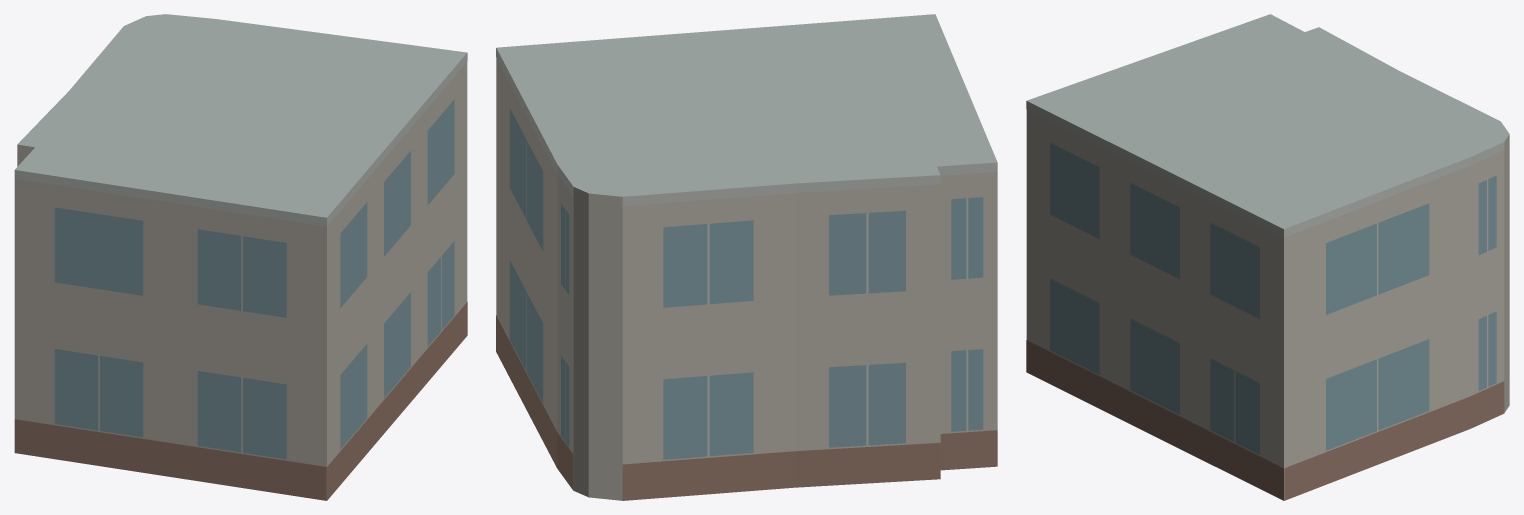
The model's file is survey-upis-32633497.glb.
The picture shows the model from 3 angles, left to right: view 1: azimuth 30°, elevation 25°; view 2: azimuth 150°, elevation 25°; view 3: azimuth 270°, elevation 25°; orthographic projection. The views are drawn at different scales.
Visible parts, largest first — view 1: survey-upis-32633497.tmp; view 2: survey-upis-32633497.tmp; view 3: survey-upis-32633497.tmp.
Part boxes in pixels (bbox=[...]): survey-upis-32633497.tmp: bbox=[14, 14, 467, 500]; survey-upis-32633497.tmp: bbox=[496, 14, 997, 500]; survey-upis-32633497.tmp: bbox=[1026, 14, 1509, 500].
Size of the model in its own units: 13.35 by 7.85 by 12.66.
